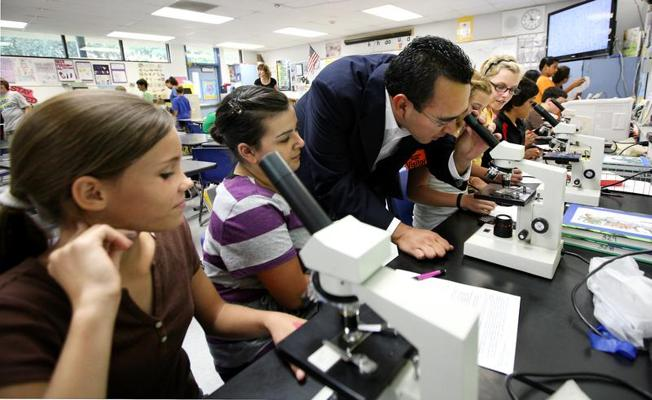person: (292, 36, 501, 262)
